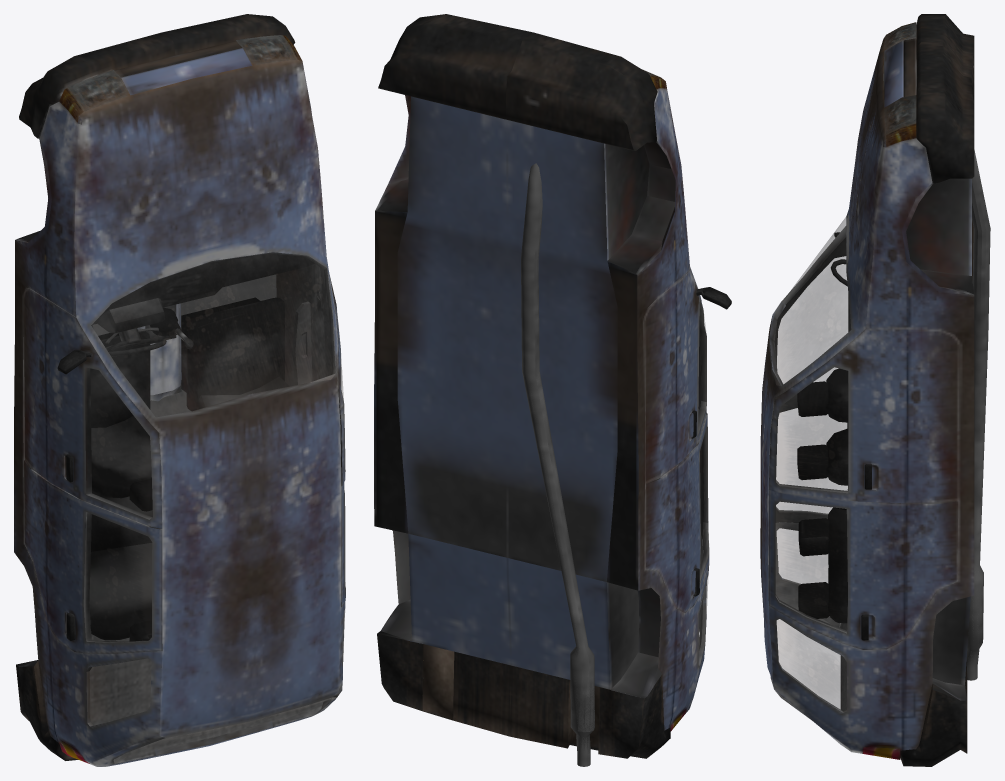
Rendered from ZAZ1105_body.obj.
The picture shows the model from 3 angles, left to right: view 1: azimuth 30°, elevation 25°; view 2: azimuth 150°, elevation 25°; view 3: azimuth 270°, elevation 25°; orthographic projection. The views are drawn at different scales.
Parts seen in each view (by area): view 1: Tavria_Dana.001; view 2: Tavria_Dana.001; view 3: Tavria_Dana.001.
Part boxes in pixels (x1,y1,x2,y2): Tavria_Dana.001: (14,14,345,766); Tavria_Dana.001: (374,14,731,766); Tavria_Dana.001: (760,14,990,766).
Size of the model in its own units: 1.67 by 3.82 by 1.2.
Materials: 2 (2 with a texture image).
